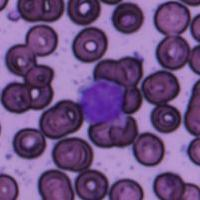L: (78, 78, 125, 125)
